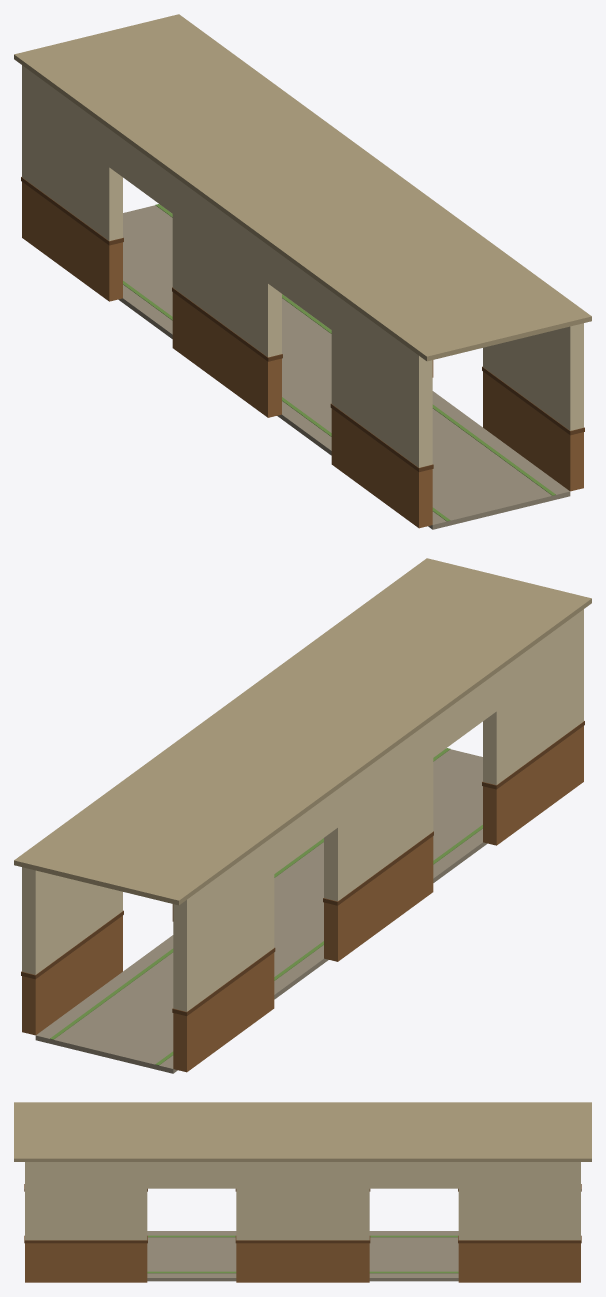
Rendered from room_shared_hall_straight_long.glb.
3 views of the same model, one above another, from view 1: azimuth 30°, elevation 25°; view 2: azimuth 150°, elevation 25°; view 3: azimuth 270°, elevation 25° (orthographic). The views are drawn at different scales.
Parts seen in each view (by area): view 1: room_shared_hall_straight_long; view 2: room_shared_hall_straight_long; view 3: room_shared_hall_straight_long.
Boxes of the visible parts, box(x1,y1,x2,y2) form: room_shared_hall_straight_long: box(14, 14, 591, 529); room_shared_hall_straight_long: box(14, 558, 591, 1073); room_shared_hall_straight_long: box(14, 1102, 591, 1282).
Size of the model in its own units: 3.62 by 3.8 by 15.6.
1 material, 1 textured.
